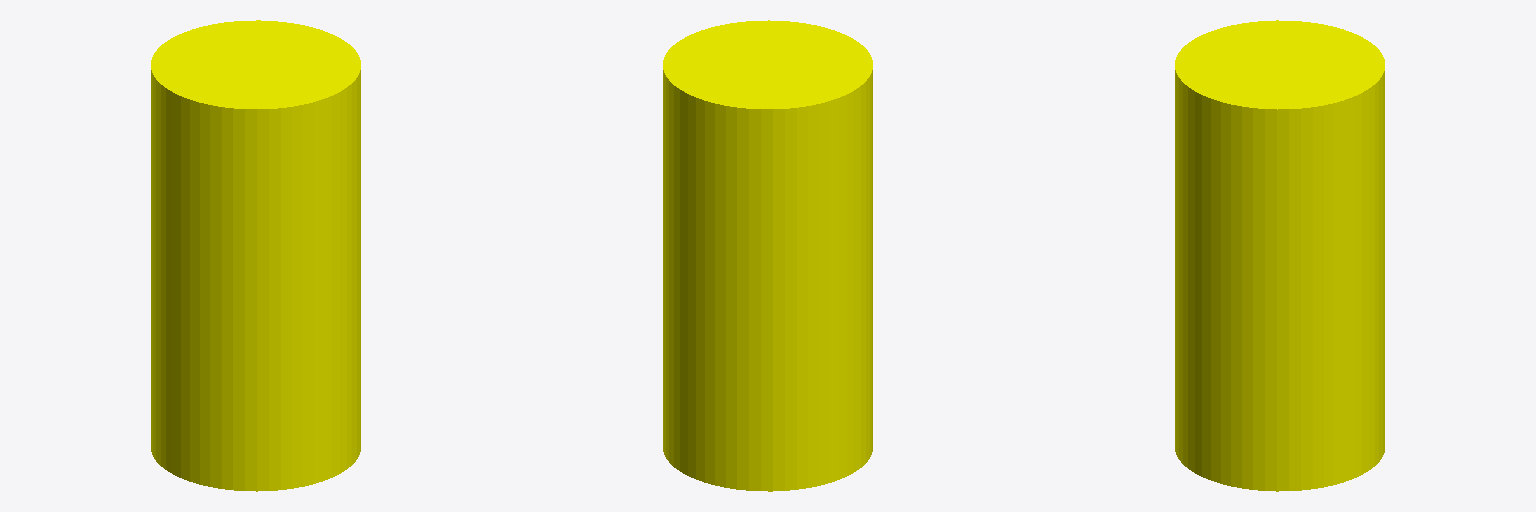
The robot description file, URDF, robot "objects":
<?xml  version="1.0"?>
<robot name ="objects"> 
    <!-- Author: [author]; e-mail:[email redacted]. The urdf file was develped in tongji university.-->

    <!--create  color params-->
    <material name ="LightGrey">
        <color rgba="0.7 0.7 0.7 1.0"/>
    </material>

    <material name ="White">
        <color rgba="1 1 1 1.0"/>
    </material>

    <material name ="Green">
        <color rgba="0.1 0. 1.0 1.0"/>
    </material>

    <material name ="Yellow">
        <color rgba="1. 1. 0. 1.0"/>
    </material>

    <material name ="Orange">
        <color rgba="1. 0.38 0. 1.0"/>
    </material>

    <material name ="Blue">
        <color rgba="0.69 0.87 0.9 1.0"/>
    </material>

    <mass name ="table_mass">
        <mass value="1.0"/>
    </mass>

    <mass name ="cylander_mass">
        <mass value="2.0"/>
    </mass>



    <link  name ="World"/>

    <joint name="cylinder1_to_world" type="floating">
        <parent link="World"/>
        <child link="cylinder1"/>
        <origin xyz="0. 0. 0." rpy="0.0 0.0 0.0"/>
    </joint>

    <link name = "cylinder1">
        <contact>
            <lateral_friction value="0.05"/>
            <rolling_friction value="0.0"/>
            <contact_erp value="1.0"/>
        </contact>
        <visual>
            <origin  xyz="0.0 0.0 0.0" rpy="0.0 0.0 0.0"/>
            <geometry>
                <mesh filename = "meshes/cylinder.dae"/>
            </geometry >
            <material name ="Yellow"/>
        </visual>
        <collision>
            <origin xyz="0.0 0.0 0.0" rpy="0.0 0.0 0.0"/>
            <geometry>
                <mesh filename ="meshes/cylinder.dae"/>
            </geometry>
        </collision>
        <inertial>
            <mass value = "0.5"/>
            <inertia ixx="1" ixy="0.0" ixz="0.0" iyy="1" iyz="0.0" izz="1"/>
        </inertial>
    </link>
</robot>

--- Render facts (derived) ---
Views: 3 orthographic renders of the robot side by side, from view 1: azimuth 30°, elevation 25°; view 2: azimuth 150°, elevation 25°; view 3: azimuth 270°, elevation 25°.
Model objects with 2 links and 1 joints (1 floating), rooted at World, posed every joint at zero.
Links seen in each view (by area): view 1: cylinder1; view 2: cylinder1; view 3: cylinder1.
Boxes of the visible links, x1=… form: cylinder1: x1=151, y1=20, x2=360, y2=491; cylinder1: x1=663, y1=20, x2=872, y2=491; cylinder1: x1=1175, y1=20, x2=1384, y2=491.
Bounding box of the posed robot: 0.1 × 0.1 × 0.2 m (x, y, z).
1 mesh visuals loaded from 1 distinct referenced files (1 Collada DAE).